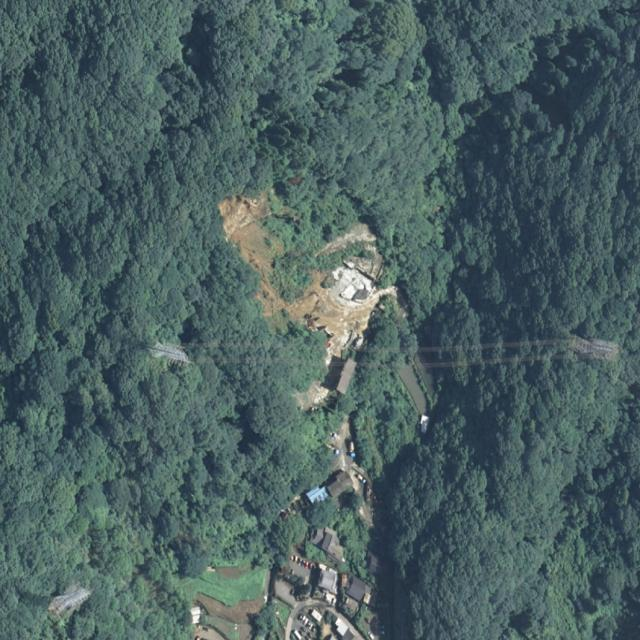landslide: (233, 220, 398, 366), (298, 382, 327, 410)
